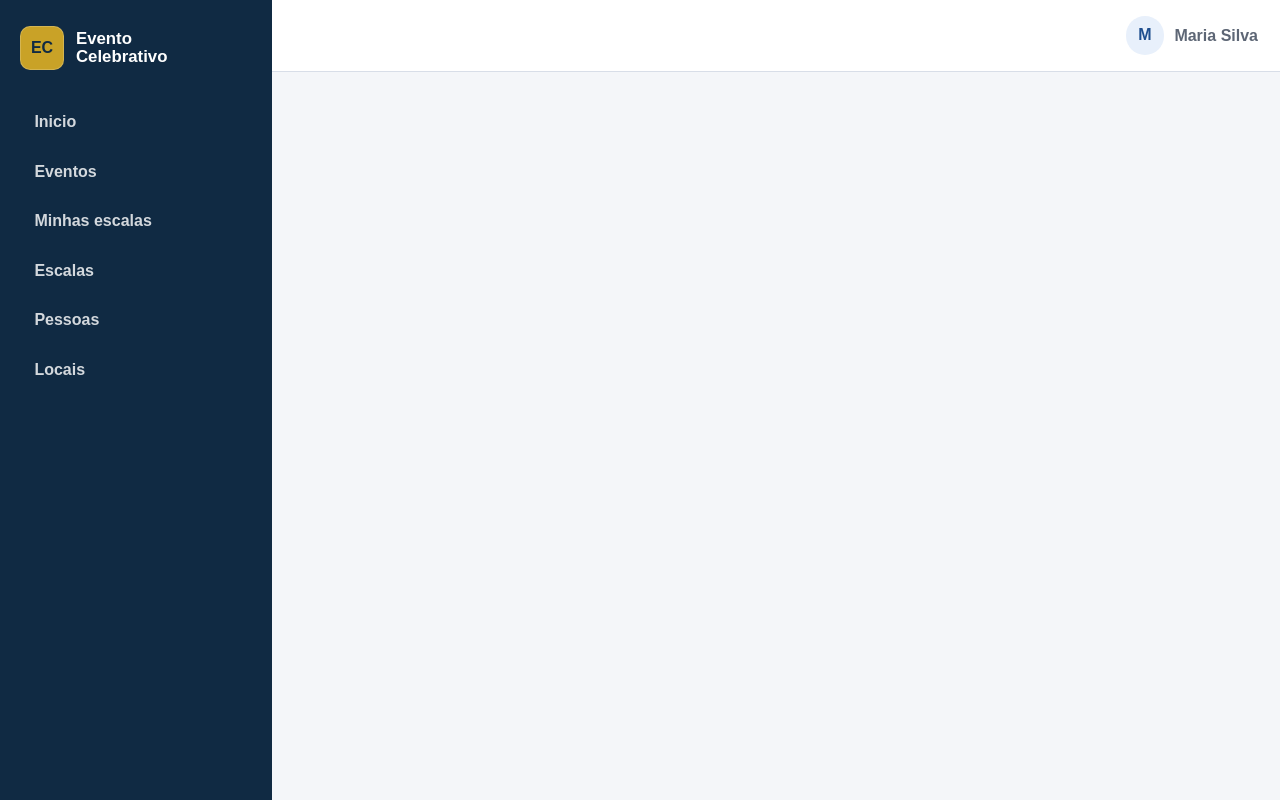
Test: AuthenticatedLayoutComponent › should render a real "Meu perfil" link pointing to /app/perfil
Click the button with class "user-menu__trigger" at (1192, 36), box x1=1120 y1=14 x2=1264 y2=58
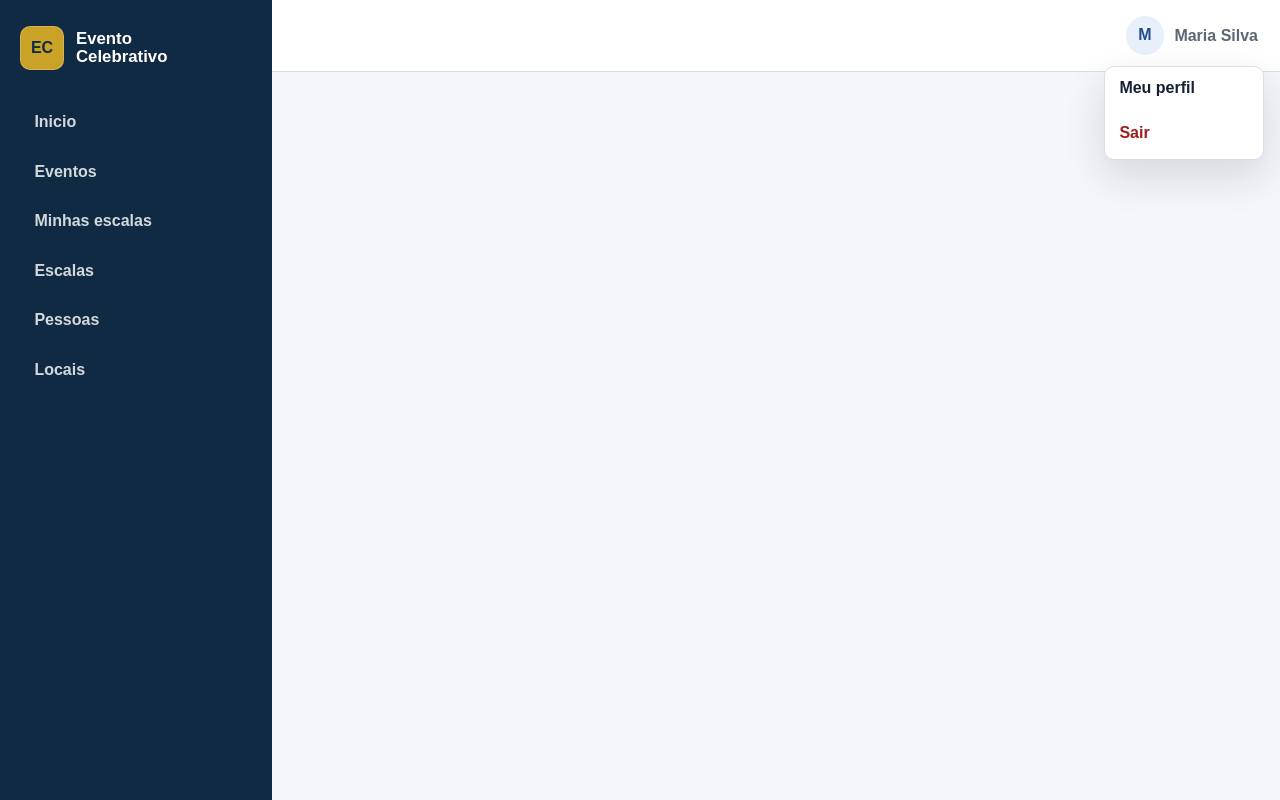
expect the menu item with class "user-menu__item--link" reads "Meu perfil": met, box x1=1119 y1=79 x2=1195 y2=96
